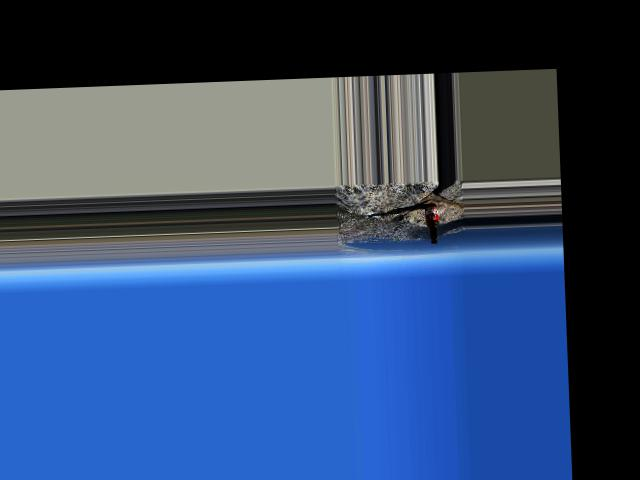beer: (424, 204, 439, 243)
